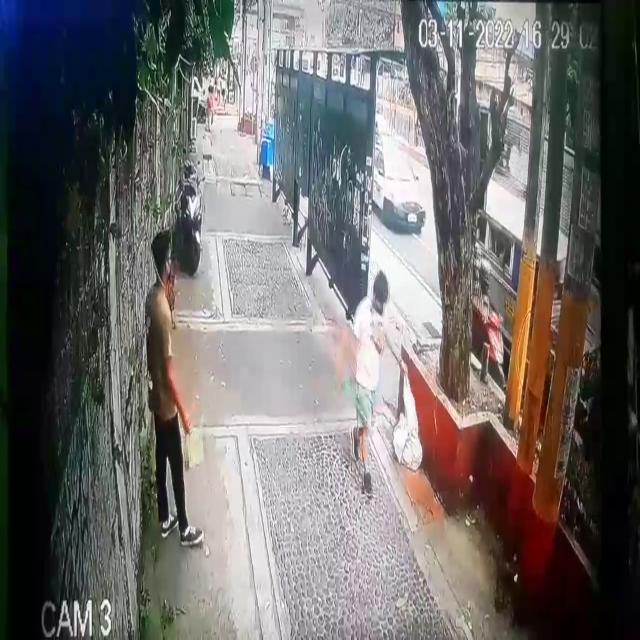human: (146, 229, 204, 547), (351, 271, 419, 498)
trash: (388, 379, 426, 484)
